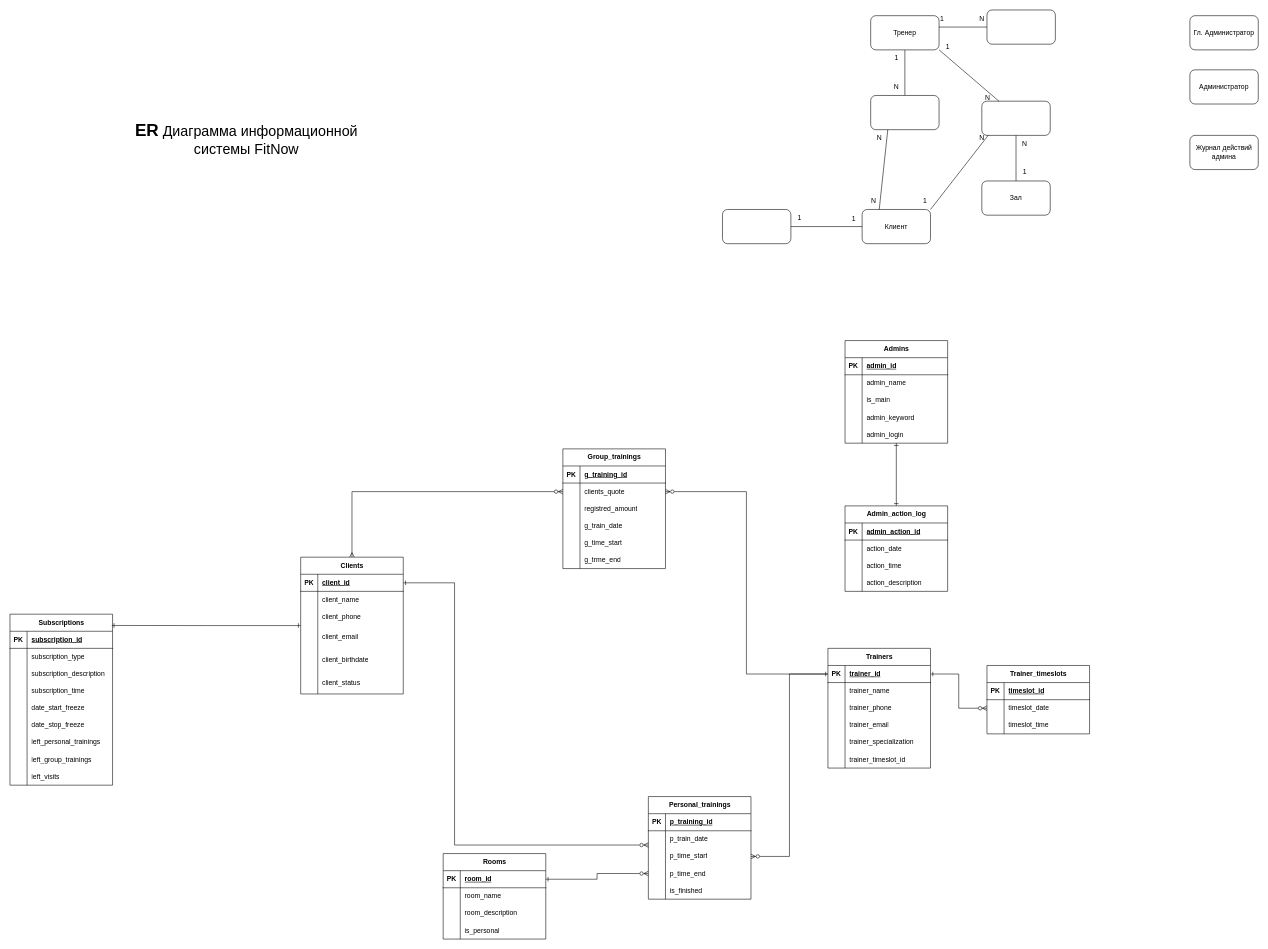
This 1268x949 diagram has some shape labels left out. Each missing label, with the centre of its shape:
абонемент: the point at 756,226
временной слот: the point at 1020,26
Групповая тренировка: the point at 904,112
Персональная Тренировка: the point at 1015,118
